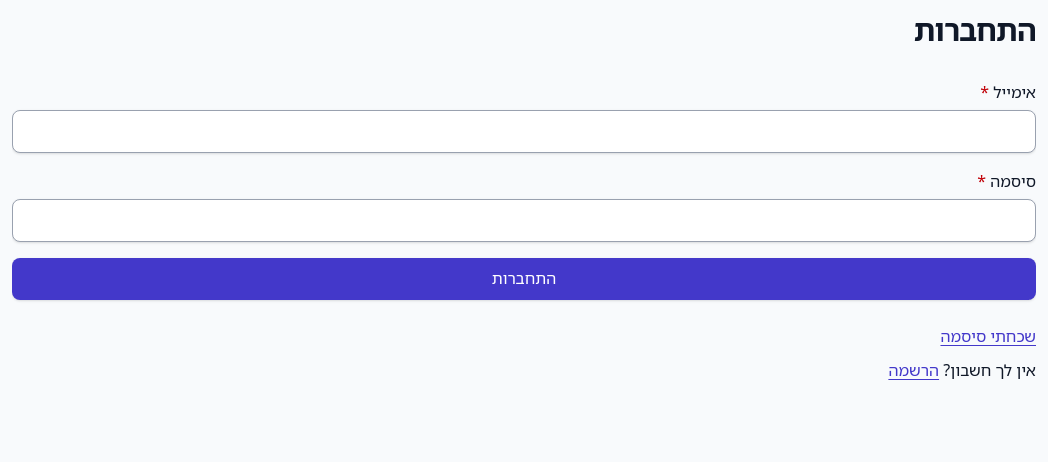
Test: LoginPage › shows a translated error for wrong credentials and focuses it
Type "dana@example.com" into the field labelled "אימייל *" at (524, 131), box 12,110 -> 1036,153
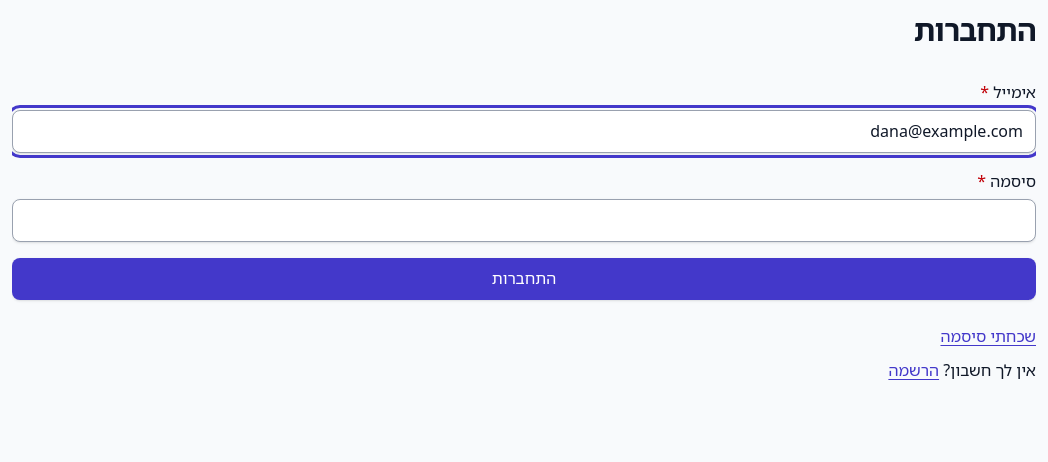
Type "wrong password" into the password field labelled "סיסמה *" at (524, 221), box 12,199 -> 1036,242
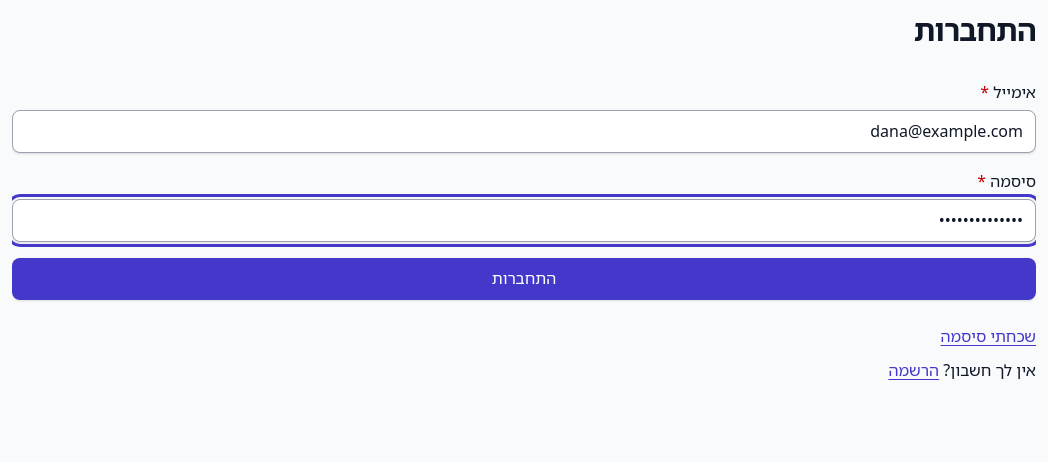
Click the button "התחברות" at (524, 279), box 12,258 -> 1036,300
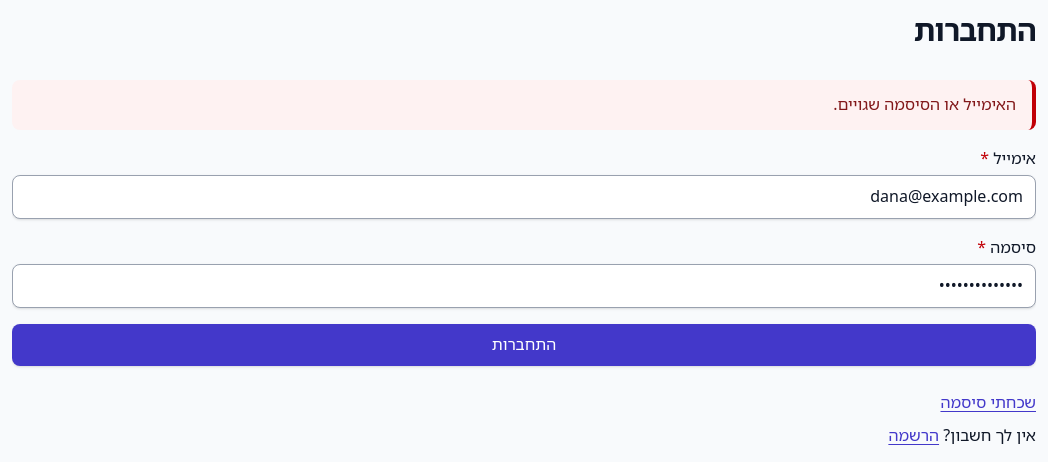
Check: the message reads "האימייל או הסיסמה שגויים.", box 833,93 -> 1016,115
